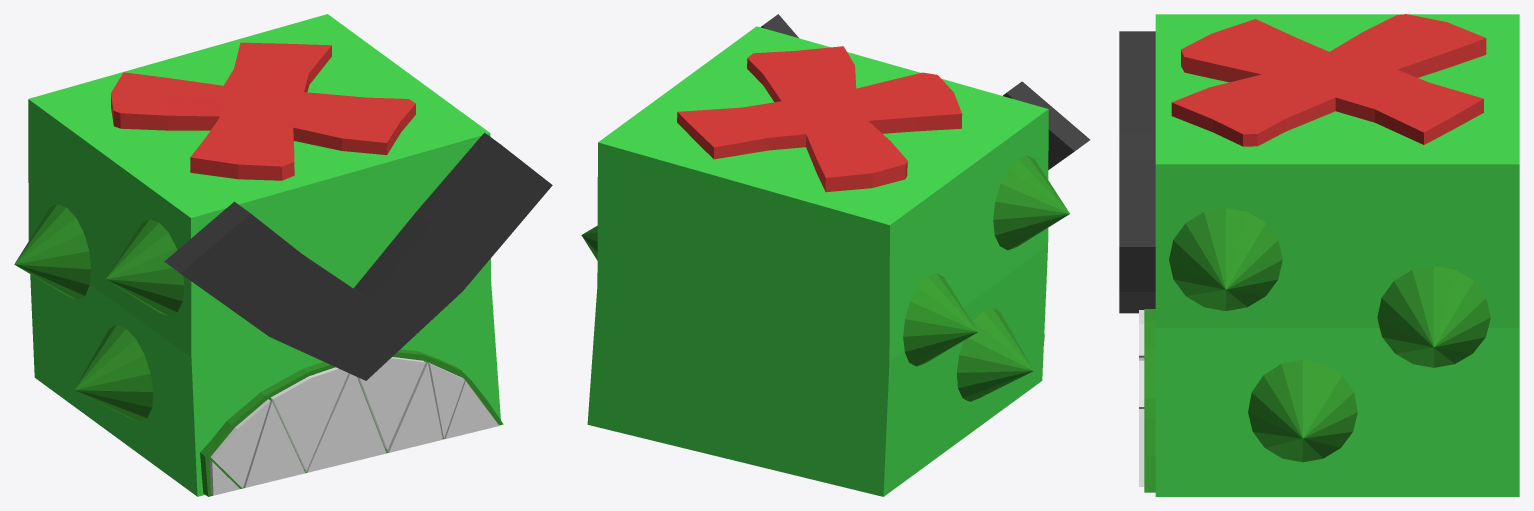
Rendered from green enemy.fbx.
3 renders of one model, left to right at view 1: azimuth 30°, elevation 25°; view 2: azimuth 150°, elevation 25°; view 3: azimuth 270°, elevation 25°, orthographic. The views are drawn at different scales.
Parts seen in each view (by area): view 1: Cube, Cube.001, Cube.002, Cone.001, Cone, Cone.002, Cube.003, Cube.004, Cube.014, Cube.007, Cube.005, Cube.006 (+4 smaller); view 2: Cube, Cube.002, Cone.002, Cone.001, Cone, Cube.001; view 3: Cube, Cube.002, Cube.001, Cone.005, Cone.003, Cone.004, Cube.014, Cube.011.
Boxes of the visible parts, x1=… form: Cube: x1=28, y1=14, x2=500, y2=496; Cube.001: x1=164, y1=132, x2=552, y2=380; Cube.002: x1=111, y1=42, x2=415, y2=180; Cone.001: x1=74, y1=325, x2=153, y2=421; Cone: x1=14, y1=204, x2=91, y2=299; Cone.002: x1=106, y1=219, x2=184, y2=316; Cube.003: x1=305, y1=373, x2=386, y2=472; Cube.004: x1=271, y1=367, x2=348, y2=470; Cube.014: x1=200, y1=349, x2=503, y2=496; Cube.007: x1=358, y1=357, x2=425, y2=449; Cube.005: x1=243, y1=400, x2=305, y2=487; Cube.006: x1=386, y1=361, x2=442, y2=452; Cube: x1=587, y1=26, x2=1048, y2=496; Cube.002: x1=677, y1=46, x2=962, y2=192; Cone.002: x1=993, y1=155, x2=1069, y2=250; Cone.001: x1=956, y1=307, x2=1033, y2=401; Cone: x1=903, y1=273, x2=977, y2=366; Cube.001: x1=761, y1=14, x2=1090, y2=169; Cube: x1=1155, y1=14, x2=1519, y2=496; Cube.002: x1=1171, y1=14, x2=1486, y2=146; Cube.001: x1=1119, y1=31, x2=1155, y2=313; Cone.005: x1=1169, y1=208, x2=1282, y2=310; Cone.003: x1=1377, y1=266, x2=1490, y2=367; Cone.004: x1=1248, y1=359, x2=1357, y2=462; Cube.014: x1=1144, y1=309, x2=1155, y2=492; Cube.011: x1=1139, y1=409, x2=1144, y2=486.
Size of the model in its own units: 292 by 205 by 220.
